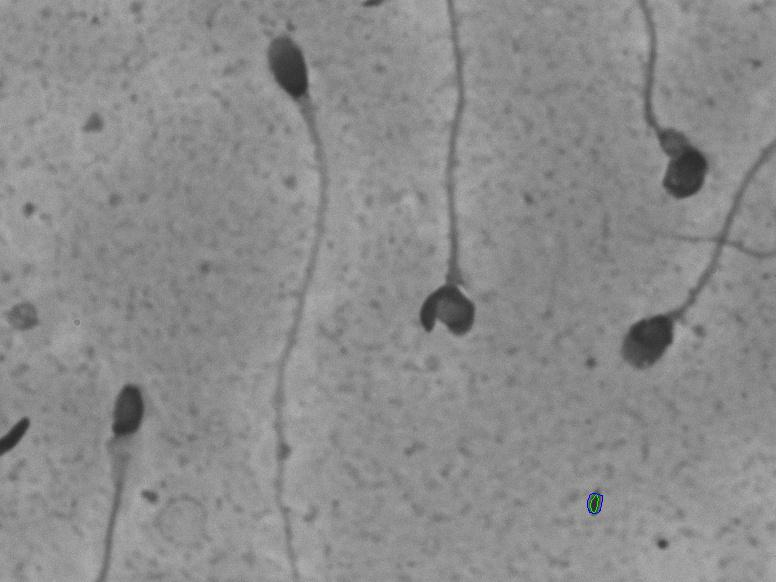Abnormal: (411, 21, 505, 352), (584, 240, 747, 416), (604, 18, 739, 209), (68, 364, 172, 545)
Normal: (239, 26, 379, 579)
